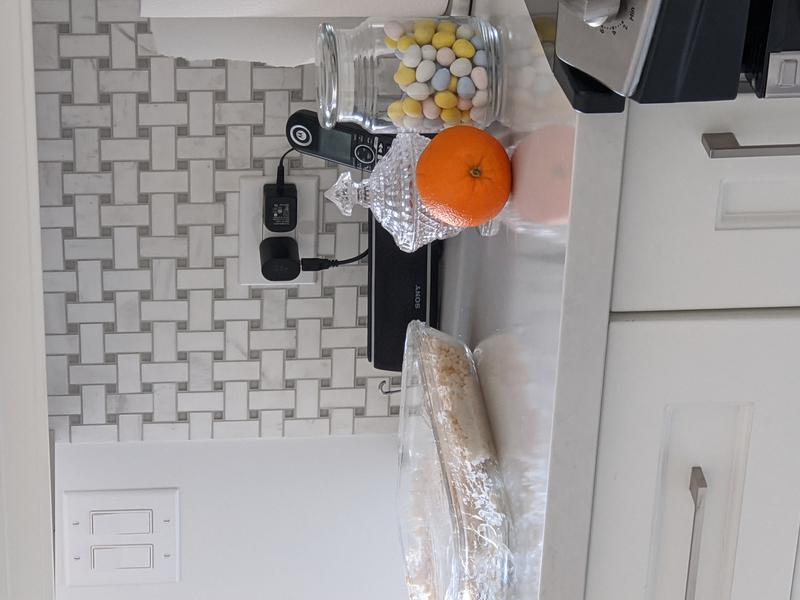orange: (414, 126, 513, 229)
